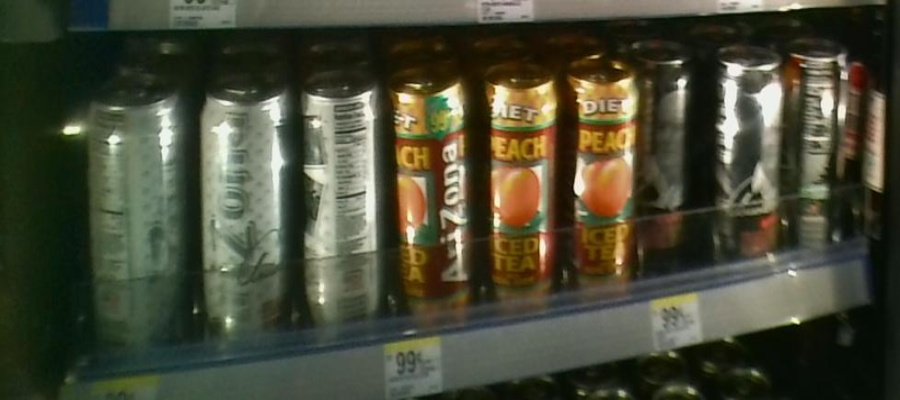bottle: (86, 78, 192, 354), (197, 75, 299, 361), (388, 69, 474, 344), (302, 76, 384, 342), (475, 60, 556, 326), (560, 55, 638, 317), (703, 28, 780, 274), (783, 26, 849, 272), (641, 42, 688, 275)
